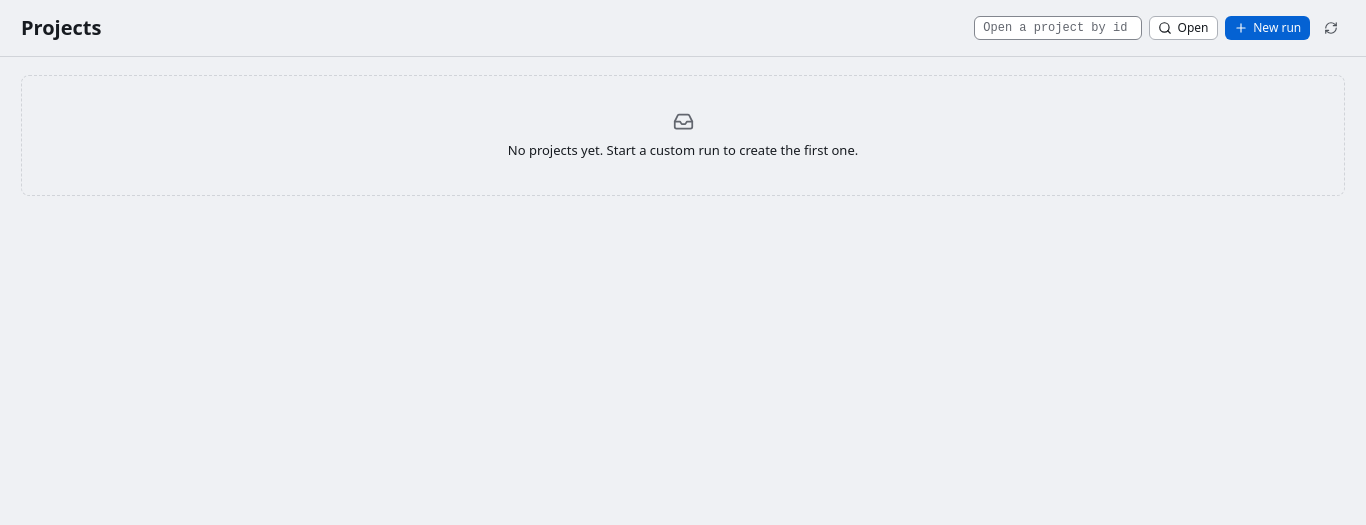
Test: an id a&b is read and written through the URL intact
Check: the text "No projects yet. Start a custom run to create the first one." is shown, box [508,140,858,160]
Step 1. Type "a&b" into the field with placeholder "Open a project by id" → (1058, 28), box [974,16,1142,40]
Then press Enter
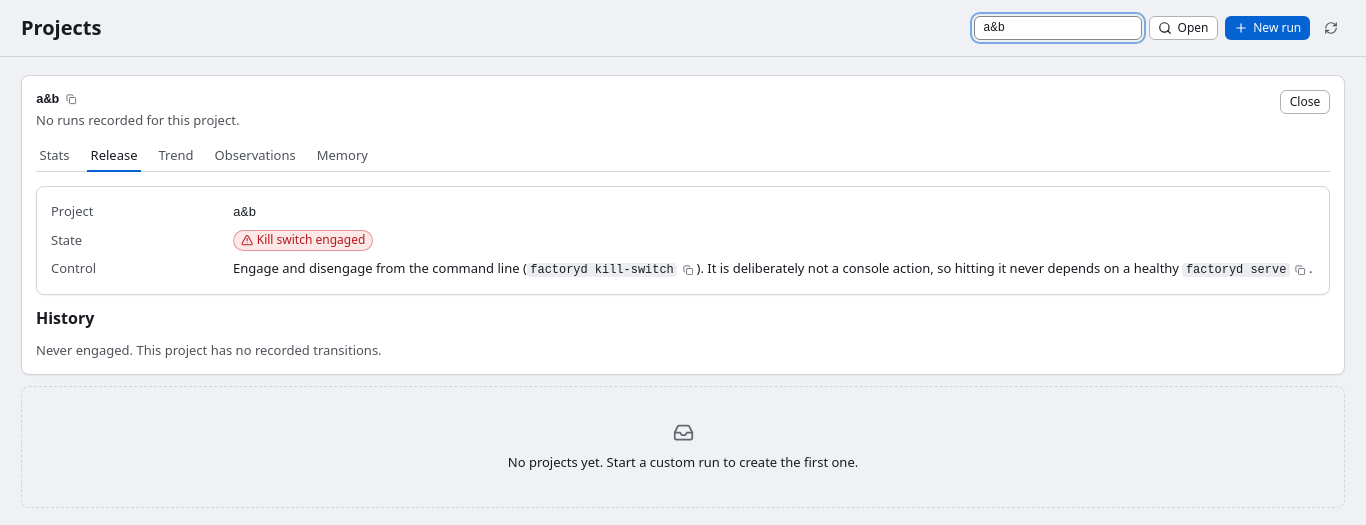
Check: the heading "a&b" is shown, box [36,90,59,110]
Check: the text "Kill switch engaged" is shown, box [233,230,373,251]
